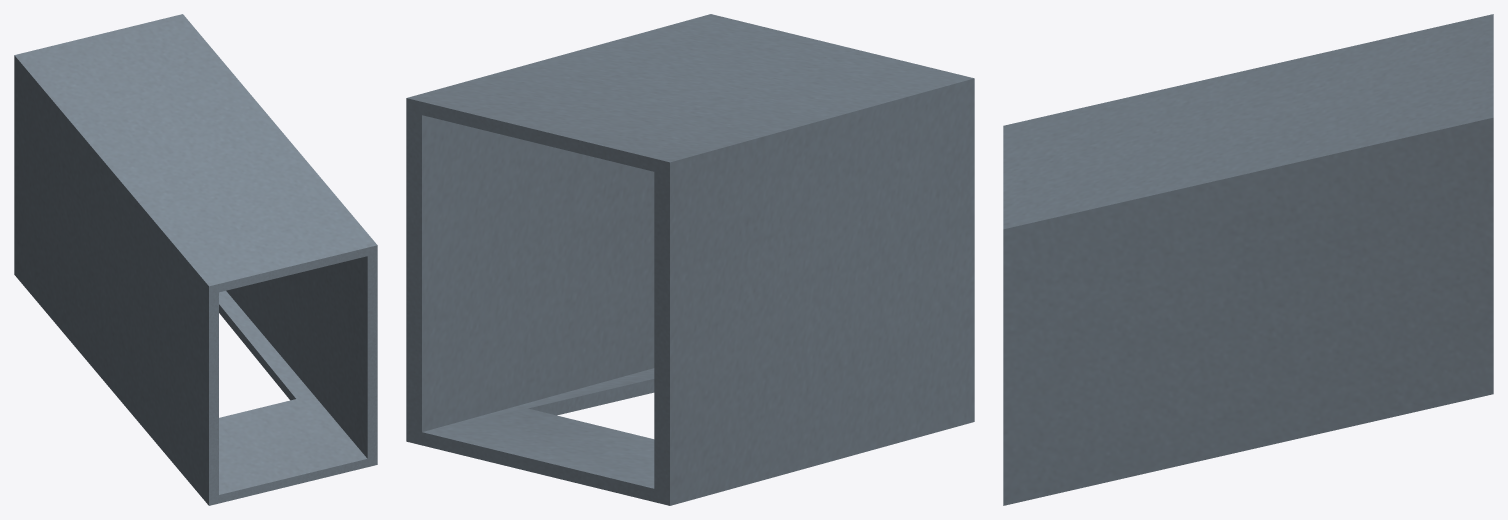
File: hvac_w_vent.fbx
The picture shows the model from 3 angles, left to right: view 1: azimuth 30°, elevation 25°; view 2: azimuth 150°, elevation 25°; view 3: azimuth 270°, elevation 25°; orthographic projection. The views are drawn at different scales.
Parts seen in each view (by area): view 1: hvac_w_vent; view 2: hvac_w_vent; view 3: hvac_w_vent.
Part boxes in pixels (x1,y1,x2,y2): hvac_w_vent: (14,14,377,505); hvac_w_vent: (406,14,974,505); hvac_w_vent: (1003,14,1493,505).
Size of the model in its own units: 200 by 350 by 400.
Materials: 1 (1 with a texture image).
